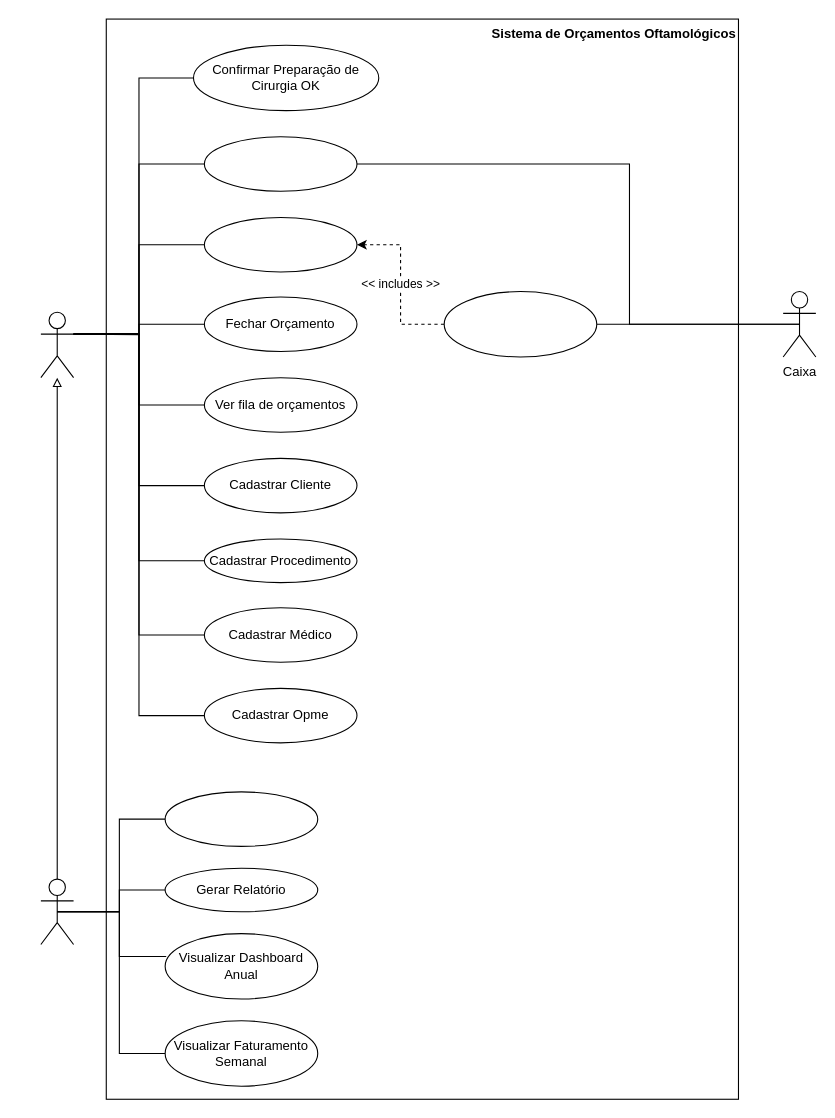
This 835x1118 diagram has some shape labels left out. The shapes that lost their labels are listed below. From the top down, each one's centre as x and y in pixels, then its label:
point 280,163: Realizar Login
point 280,244: Cadastrar Orçamento
point 520,323: Confirmar Recebimento de Valores
point 57,344: Usuário
point 241,818: Cadastrar Usuário
point 57,911: Administrator
